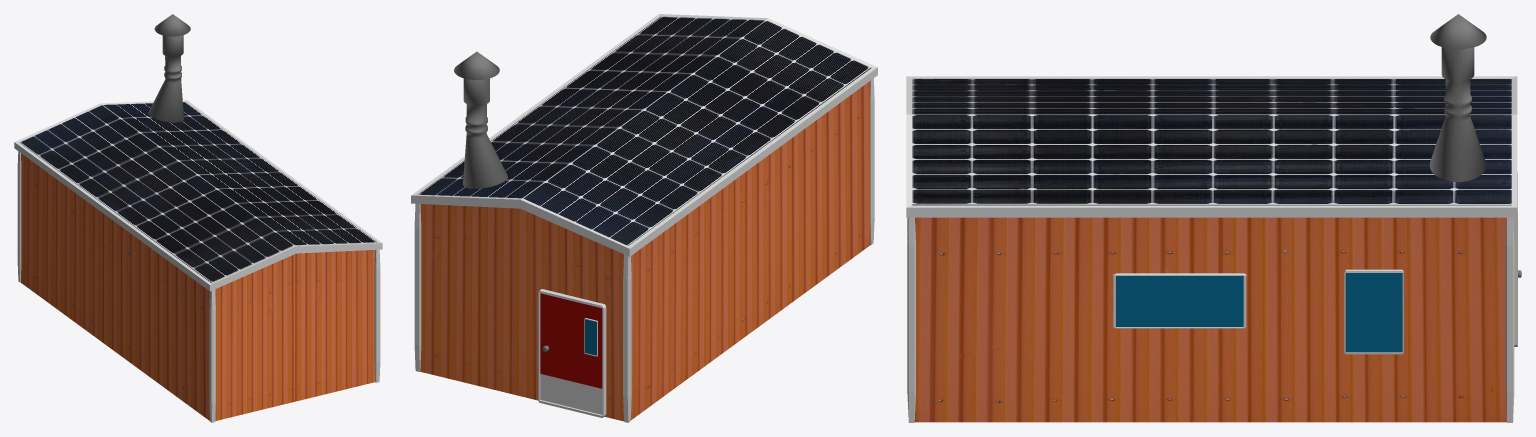
File: Village_house_1.fbx
3 renders of one model, left to right at view 1: azimuth 30°, elevation 25°; view 2: azimuth 150°, elevation 25°; view 3: azimuth 270°, elevation 25°, orthographic. The views are drawn at different scales.
Parts seen in each view (by area): view 1: Cube.005; view 2: Cube.005; view 3: Cube.005.
Part boxes in pixels (x1,y1,x2,y2): Cube.005: (14,14,382,422); Cube.005: (411,14,877,422); Cube.005: (906,14,1521,422).
Bounding box in the file's own units: 519 × 710 × 1026.
